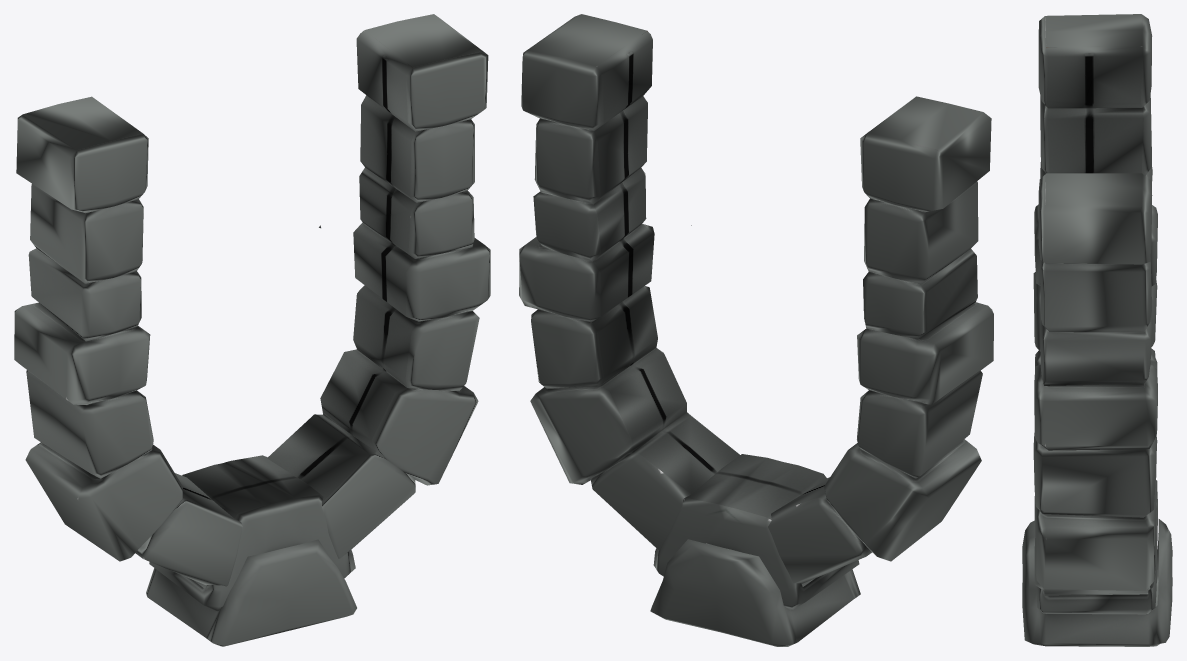
The model's file is arco.dae.
3 renders of one model, left to right at view 1: azimuth 30°, elevation 25°; view 2: azimuth 150°, elevation 25°; view 3: azimuth 270°, elevation 25°, orthographic. The views are drawn at different scales.
Visible parts, largest first — view 1: Whole_Door.001; view 2: Whole_Door.001; view 3: Whole_Door.001.
Part boxes in pixels (x1=…): Whole_Door.001: x1=14, y1=14, x2=490, y2=646; Whole_Door.001: x1=519, y1=14, x2=993, y2=646; Whole_Door.001: x1=1022, y1=14, x2=1172, y2=646.
Size of the model in its own units: 1.46 by 0.4673 by 1.74.
Materials: 1 (1 with a texture image).
